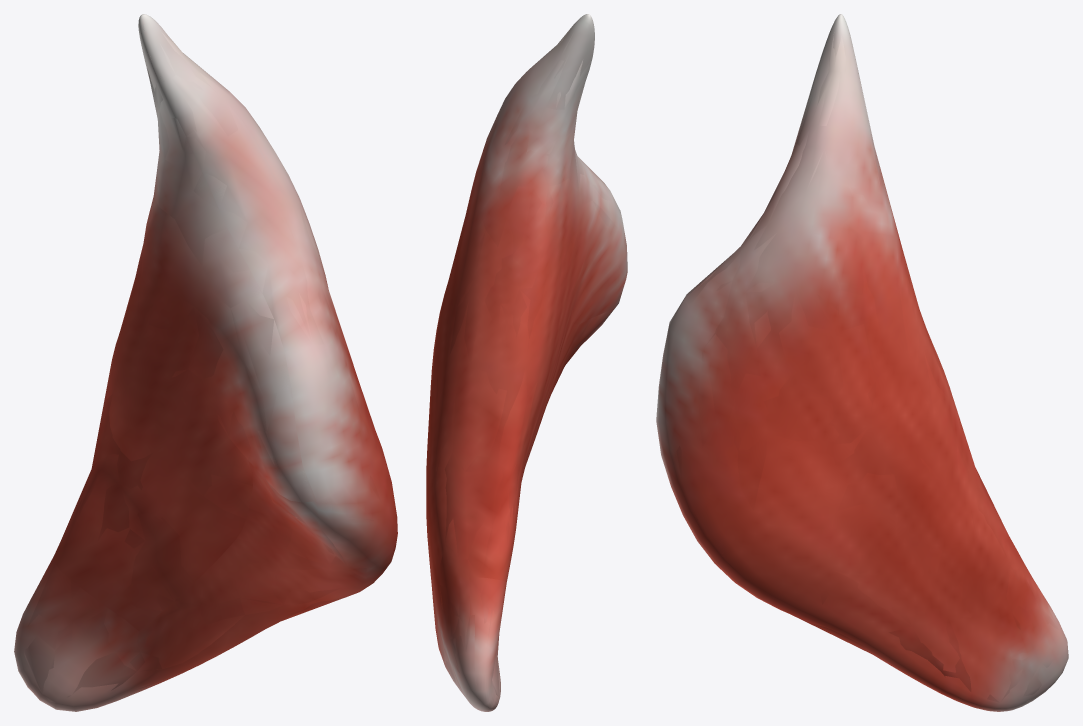
File: L Triceps Brachii Lateral Head.fbx
3 renders of one model, left to right at view 1: azimuth 30°, elevation 25°; view 2: azimuth 150°, elevation 25°; view 3: azimuth 270°, elevation 25°, orthographic. The views are drawn at different scales.
Parts seen in each view (by area): view 1: L Triceps Brachii Lateral Head, L Triceps Brachii Lateral Head low; view 2: L Triceps Brachii Lateral Head, L Triceps Brachii Lateral Head low; view 3: L Triceps Brachii Lateral Head, L Triceps Brachii Lateral Head low.
Part boxes in pixels (left/top/right/bottom): L Triceps Brachii Lateral Head: left=14, top=14, right=397, bottom=711; L Triceps Brachii Lateral Head low: left=24, top=24, right=397, bottom=702; L Triceps Brachii Lateral Head: left=426, top=14, right=627, bottom=711; L Triceps Brachii Lateral Head low: left=426, top=26, right=627, bottom=701; L Triceps Brachii Lateral Head: left=656, top=14, right=1068, bottom=711; L Triceps Brachii Lateral Head low: left=664, top=32, right=1065, bottom=708.
Bounding box in the file's own units: 10.9 × 39.75 × 21.87.
